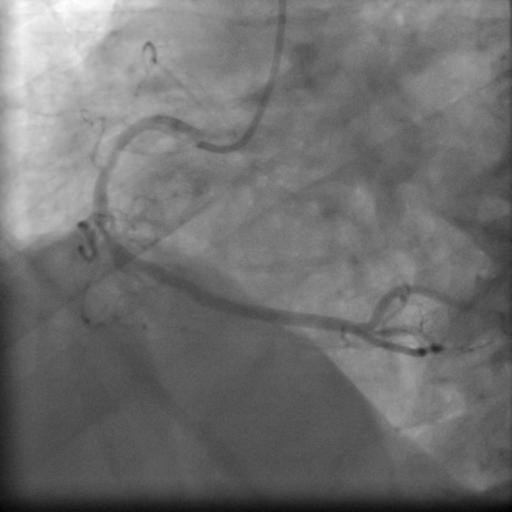Stenosis: (93, 125, 130, 234)
